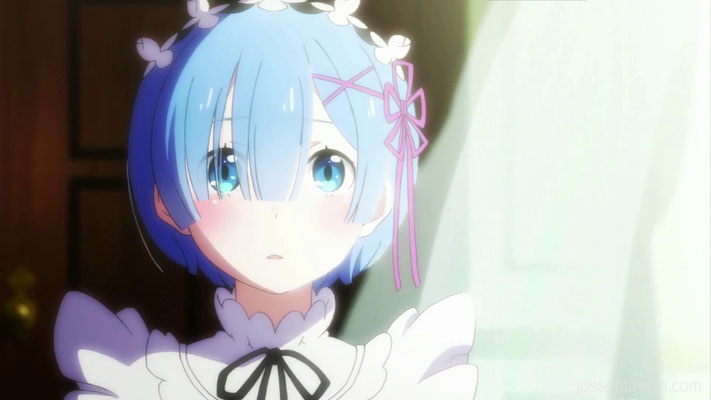rem: (58, 4, 482, 400)
